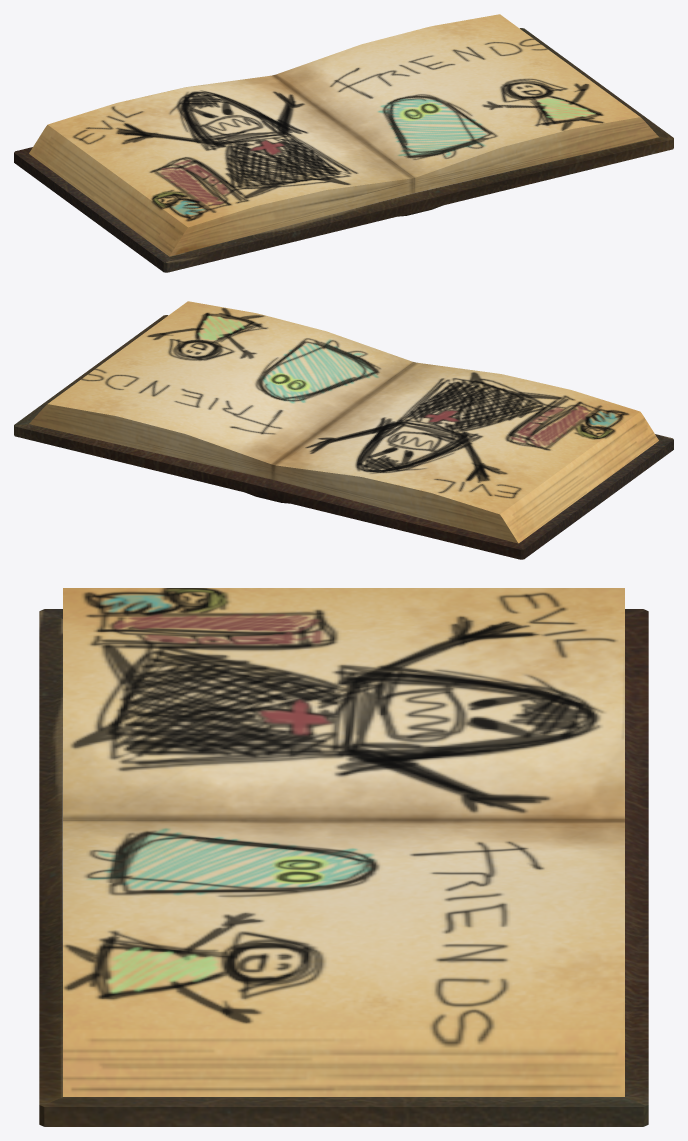
Rendered from book open.fbx.
The picture shows the model from 3 angles, top to bottom: view 1: azimuth 30°, elevation 25°; view 2: azimuth 150°, elevation 25°; view 3: azimuth 270°, elevation 25°; orthographic projection. The views are drawn at different scales.
Visible parts, largest first — view 1: Mesh; view 2: Mesh; view 3: Mesh.
Boxes of the visible parts, x1,y1,x2,y2 form: Mesh: (14, 14, 673, 272); Mesh: (14, 301, 673, 559); Mesh: (39, 588, 648, 1126).
Size of the model in its own units: 35 by 18.1 by 2.72.
